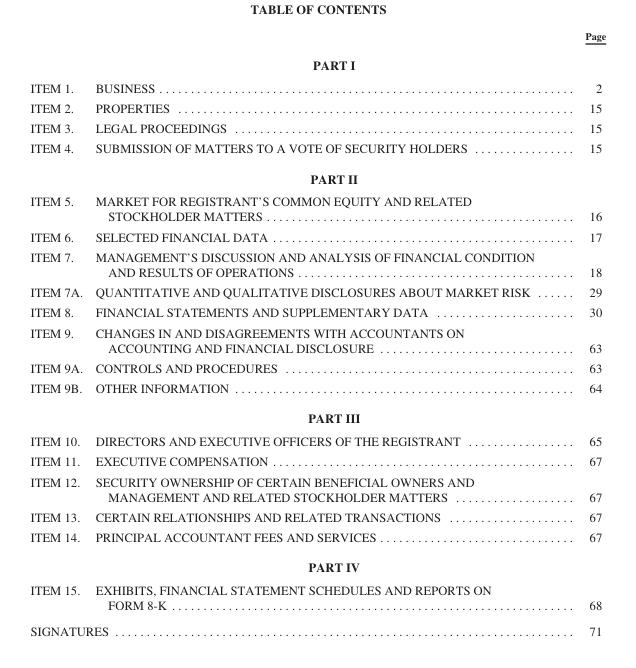table: (29, 29, 605, 637)
table column: (88, 29, 559, 637), (29, 29, 88, 637), (559, 29, 605, 637)
table column header: (29, 29, 605, 75)
table row: (29, 29, 605, 75), (29, 578, 605, 617), (29, 189, 605, 226), (29, 246, 605, 281), (29, 322, 605, 357), (29, 471, 605, 506), (29, 162, 605, 189), (29, 402, 605, 429), (29, 551, 605, 578), (29, 137, 605, 162), (29, 377, 605, 402), (29, 526, 605, 551), (29, 75, 605, 97), (29, 301, 605, 322), (29, 429, 605, 450), (29, 450, 605, 471), (29, 97, 605, 117), (29, 117, 605, 137), (29, 226, 605, 246), (29, 281, 605, 301), (29, 357, 605, 377), (29, 506, 605, 526), (29, 617, 605, 637)
table spanning cell: (29, 617, 559, 637), (29, 137, 88, 189), (29, 377, 88, 429), (29, 526, 88, 578)
